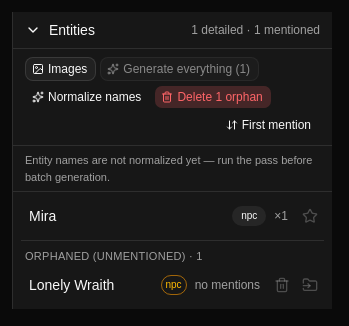
EntityPanel — orphaned entities › per-row trash refuses a guarded orphan with the reason and keeps the entity
What coordinates should you click on to do the following:
click the button with test id "orphan-delete"
I would click on:
 (282, 285)
Its box is [268,271,296,299].
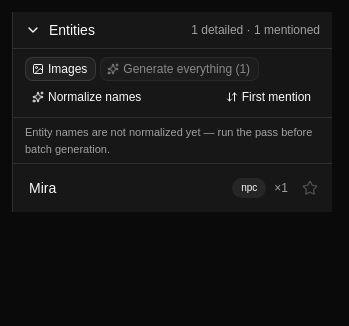
Check: the button with test id "orphan-row" is gone
